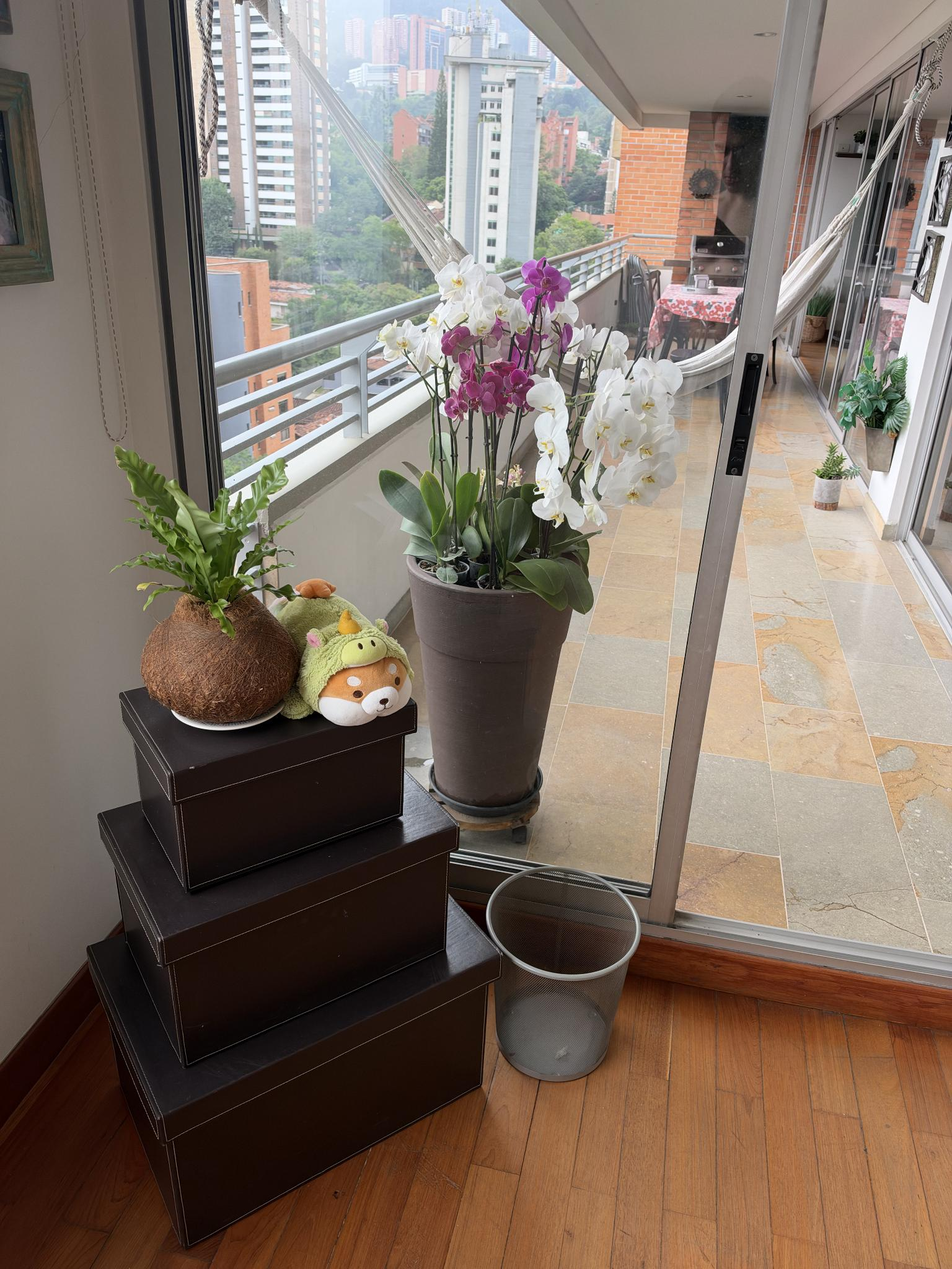peluche_martin: (273, 577, 415, 728)
